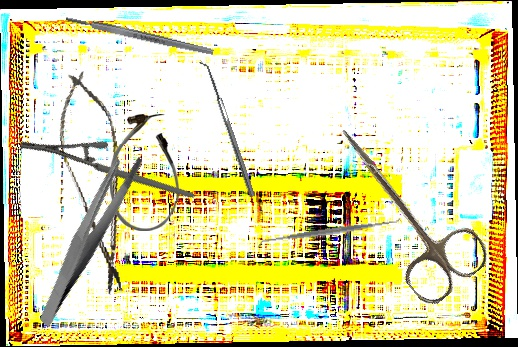Cannula: (108, 113, 181, 232)
Dressing Forceps: (0, 146, 176, 328)
Iris Scissors: (306, 106, 496, 311)
Micro Scissor: (47, 65, 146, 300)
Needle Holder: (16, 93, 196, 248)
Scalpel Handle: (64, 14, 215, 57)
Spatula Surgical: (197, 59, 256, 199), (256, 214, 402, 250)
